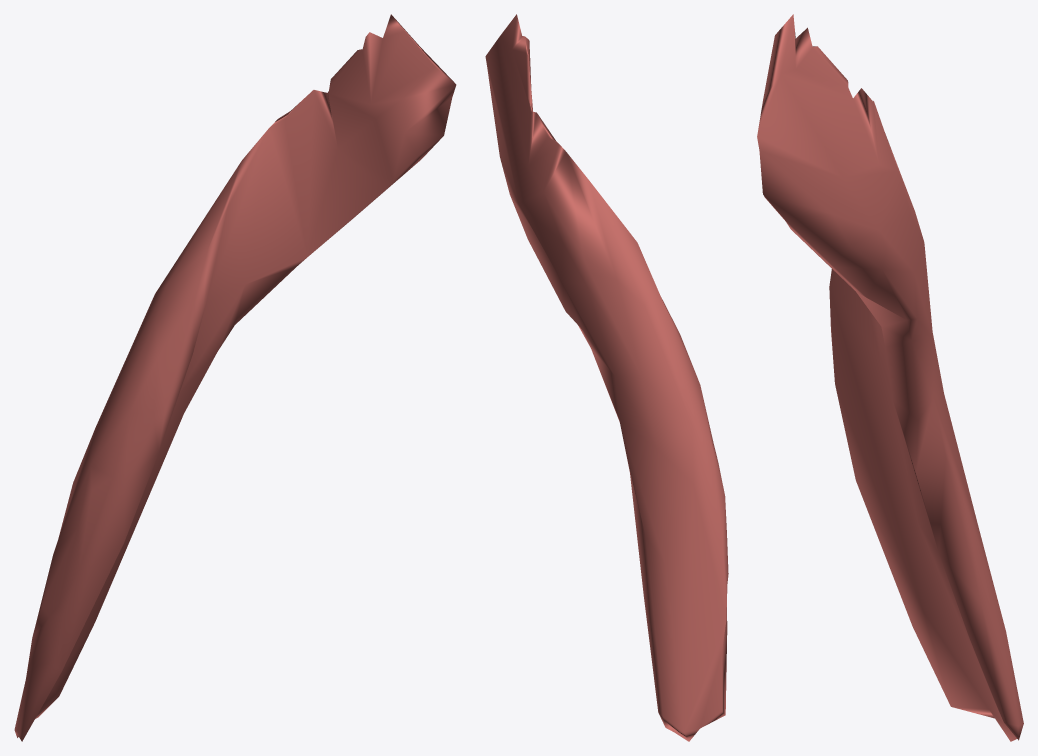
3 renders of one model, left to right at view 1: azimuth 30°, elevation 25°; view 2: azimuth 150°, elevation 25°; view 3: azimuth 270°, elevation 25°, orthographic. The views are drawn at different scales.
Parts seen in each view (by area): view 1: 右侧小趾对跖肌; view 2: 右侧小趾对跖肌; view 3: 右侧小趾对跖肌.
Part boxes in pixels (x1=…): 右侧小趾对跖肌: x1=14, y1=14, x2=456, y2=741; 右侧小趾对跖肌: x1=485, y1=14, x2=728, y2=741; 右侧小趾对跖肌: x1=757, y1=14, x2=1023, y2=741.
Size of the model in its own units: 0.0333 by 0.0638 by 0.017.
